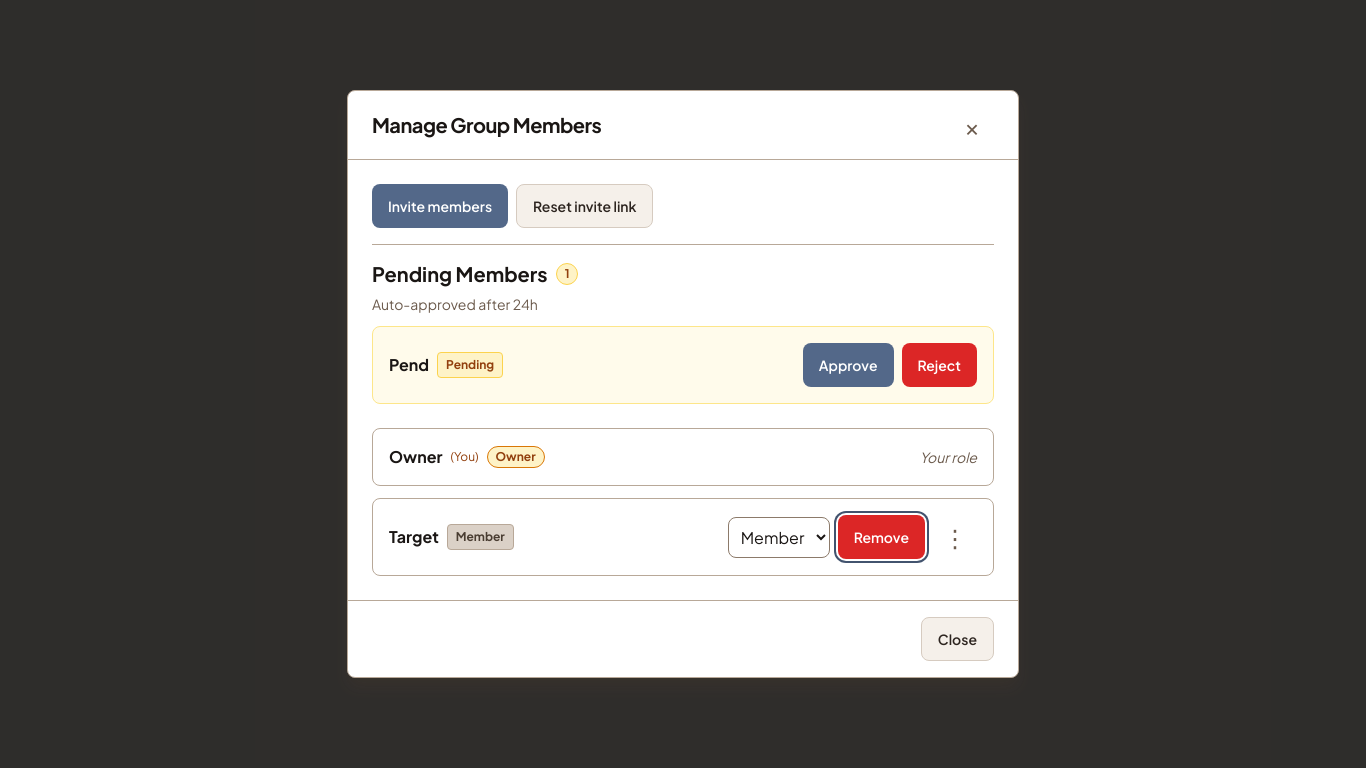
Test: ManageMembers — THE STACKED PAIR, ConfirmDialog over Modal (88.6-45, AC-7) › 4. dismissing the top dialog returns focus INTO the underlying Modal — to the NAMED opener, never <body>
Expected: the text "Target" is shown, [389,526,439,547]
What coordinates should you click on to do the following:
click the button titled "Remove from group"
I would click on:
 (881, 537)
Its box is [838,515,925,559].
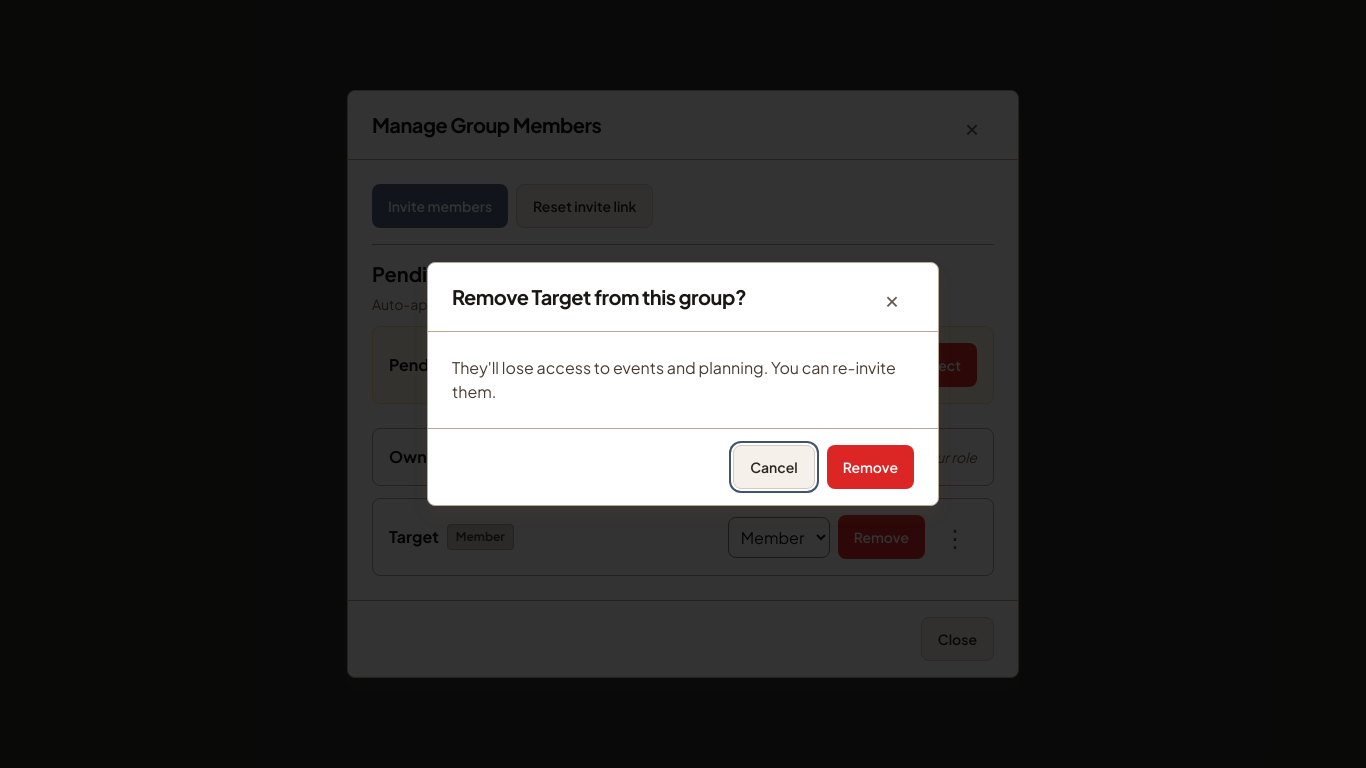
What coordinates should you click on to do the following:
click the button "Cancel"
I would click on:
 (774, 467)
Its box is [733,445,815,489].
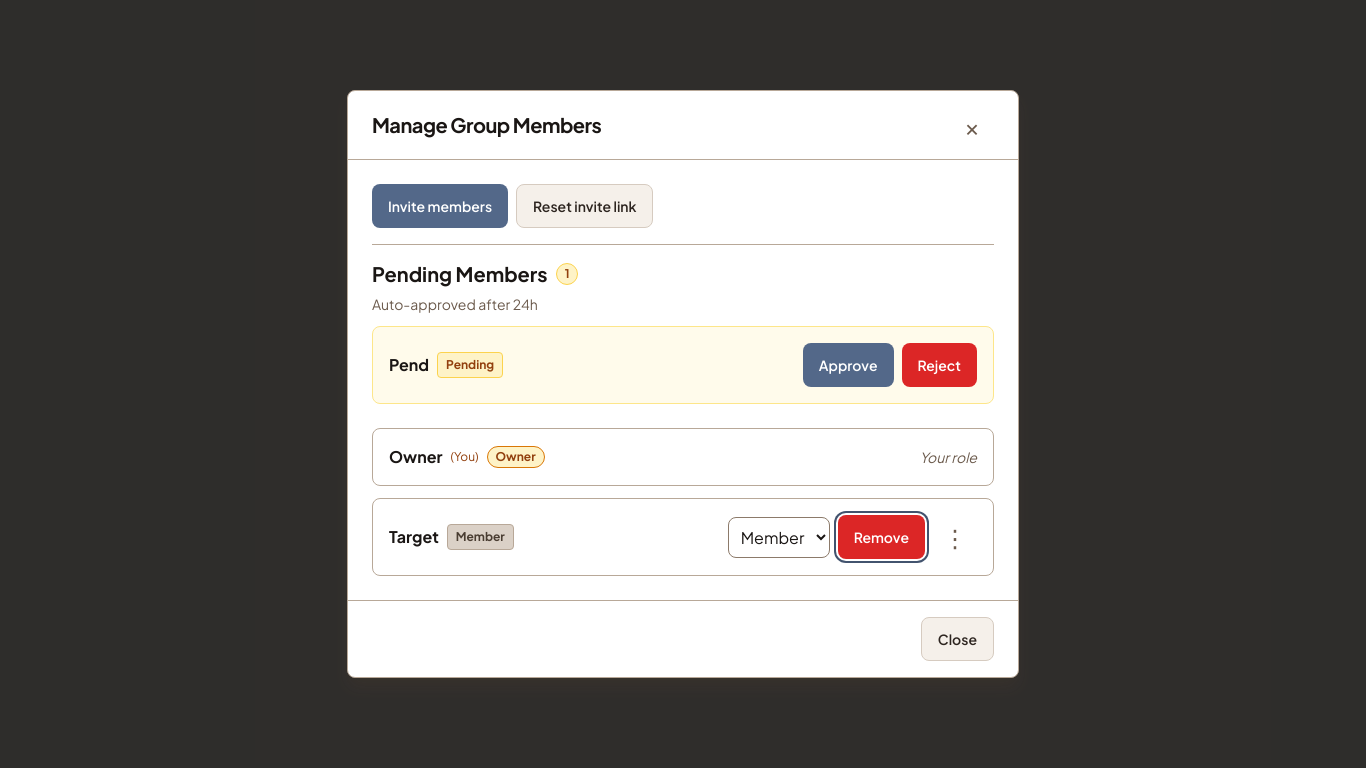
Now the heading "Remove Target from this group?" is gone
